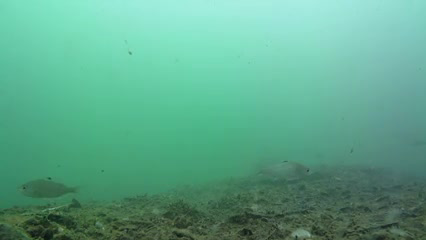smallfish: (13, 173, 85, 204), (258, 154, 317, 184)
